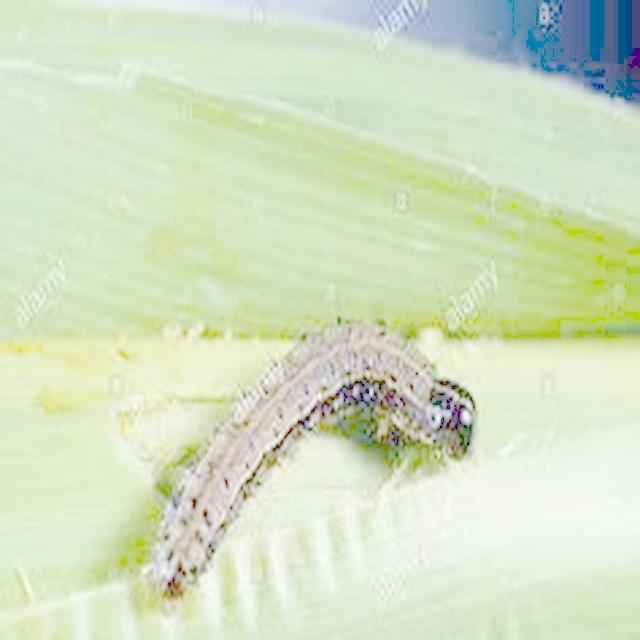gusano_cogollero: (148, 324, 480, 602)
